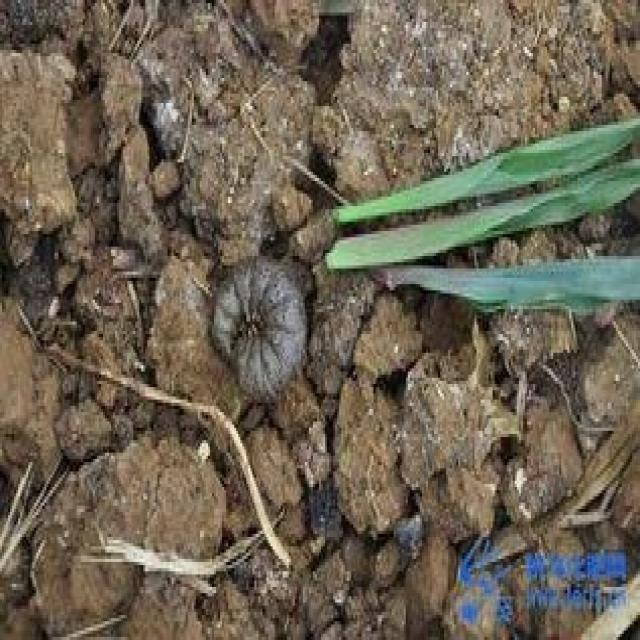black cutworm: (207, 256, 312, 390)
